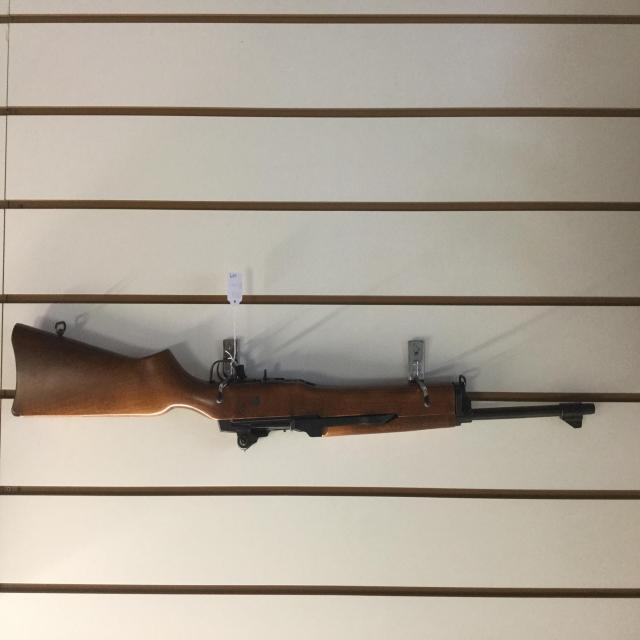weapon: (10, 320, 596, 452)
